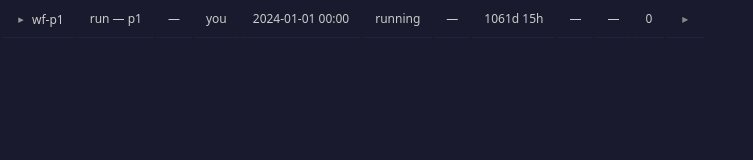
Scenario: keeps showing the cached children while their level refreshes
Click the button named "Show child runs of run — p1" at (21, 20), box x1=14 y1=14 x2=28 y2=25
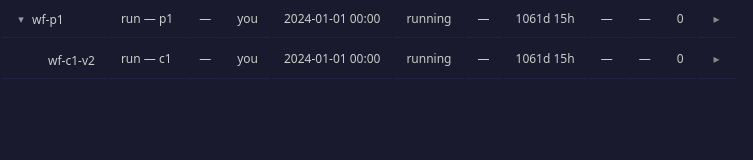
Now the text "wf-c1-v2" is shown, box x1=48 y1=52 x2=95 y2=68
